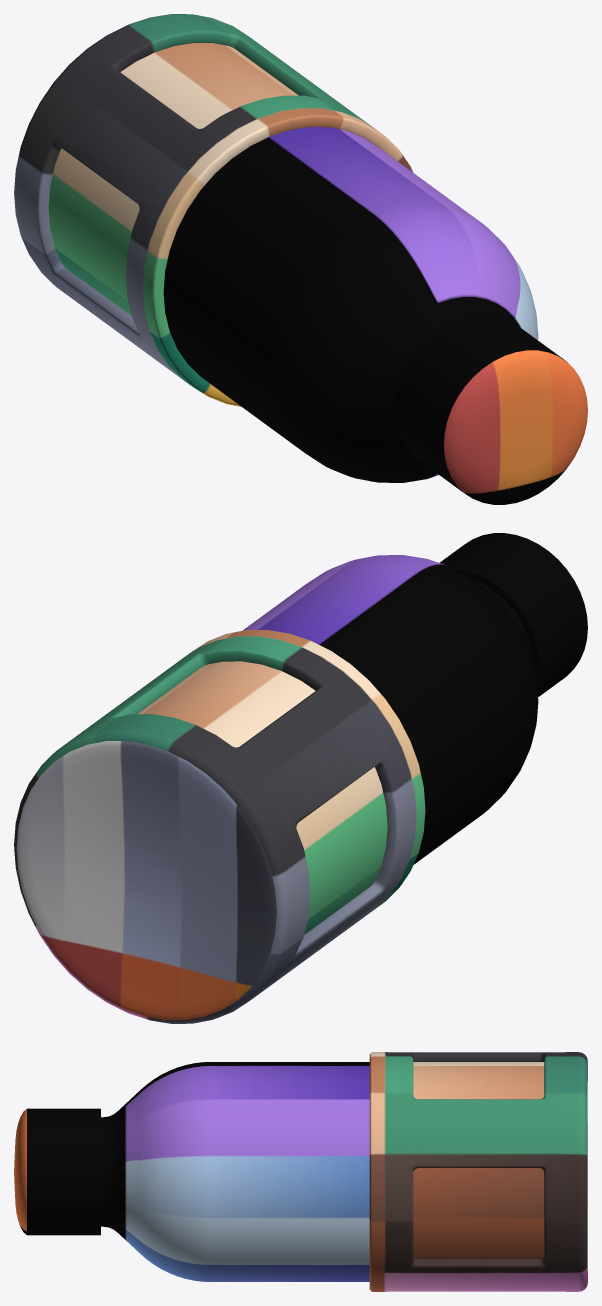
Rendered from bottle.obj.
3 renders of one model, top to bottom at view 1: azimuth 30°, elevation 25°; view 2: azimuth 150°, elevation 25°; view 3: azimuth 270°, elevation 25°, orthographic. The views are drawn at different scales.
Bounding box in the file's own units: 0.1129 × 0.1129 × 0.27.
1 material, 1 textured.
